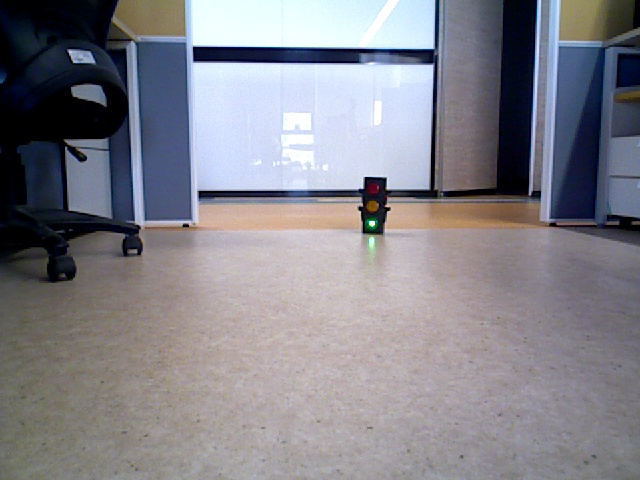green: (361, 181, 381, 230)
